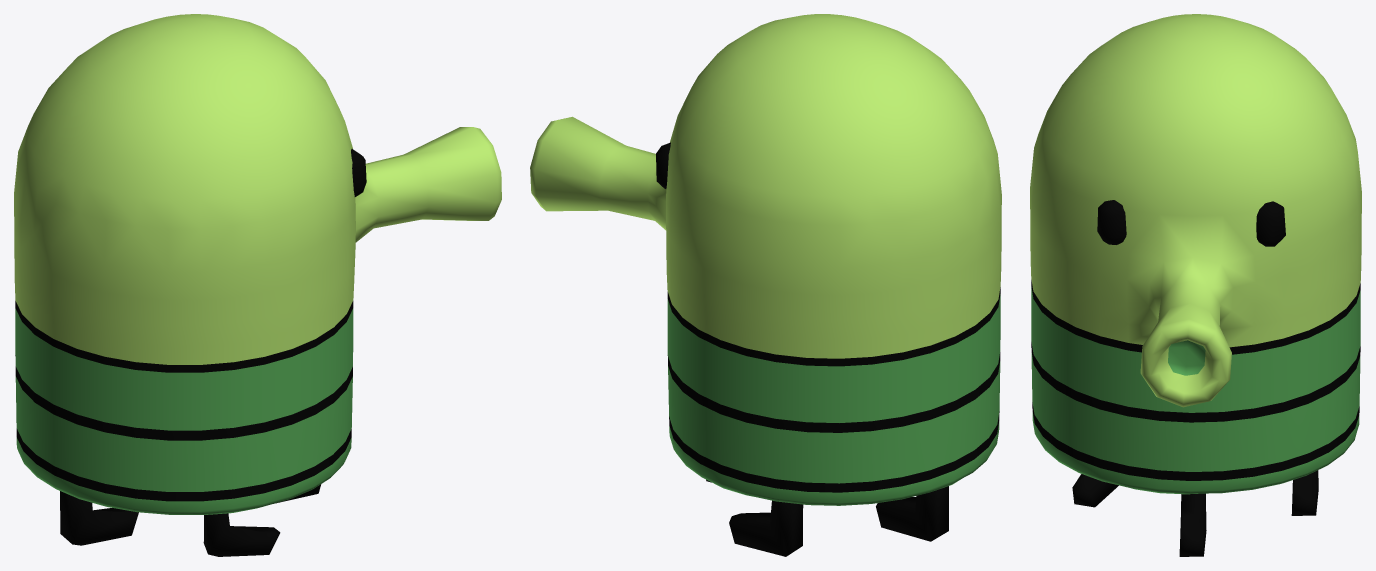
File: DoodleJump.fbx
3 views of the same model, side by side, from view 1: azimuth 30°, elevation 25°; view 2: azimuth 150°, elevation 25°; view 3: azimuth 270°, elevation 25° (orthographic). The views are drawn at different scales.
Parts seen in each view (by area): view 1: Sphere, Cube; view 2: Sphere, Cube; view 3: Sphere, Cube, Sphere.001.
Part boxes in pixels (<box>): Sphere: <box>14,14,501,514</box>; Cube: <box>60,484,321,556</box>; Sphere: <box>530,14,1001,505</box>; Cube: <box>706,479,948,556</box>; Sphere: <box>1030,14,1361,494</box>; Cube: <box>1072,470,1318,556</box>; Sphere.001: <box>1097,200,1285,246</box>.
Bounding box in the file's own units: 290 × 305 × 194.
